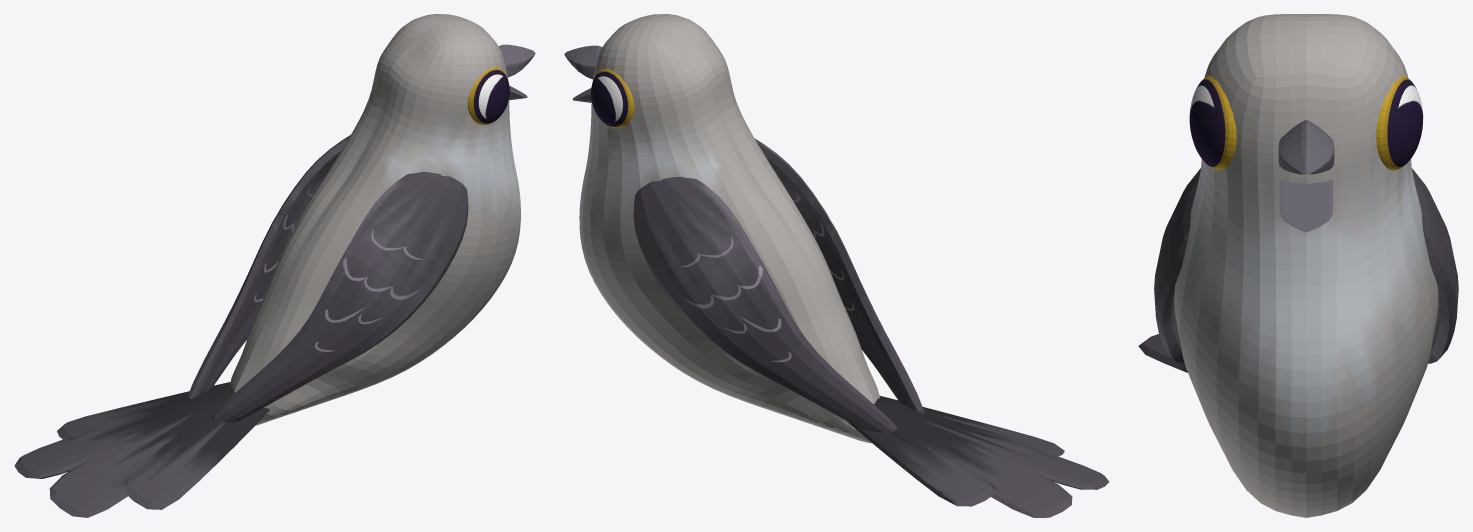
The model's file is Kakku.fbx.
3 views of the same model, side by side, from view 1: azimuth 30°, elevation 25°; view 2: azimuth 150°, elevation 25°; view 3: azimuth 270°, elevation 25° (orthographic). The views are drawn at different scales.
Parts seen in each view (by area): view 1: Plane, Plane.001, Plane.004, Cube, Plane.002; view 2: Plane, Plane.001, Plane.004, Cube, Plane.002; view 3: Plane, Plane.001, Cube, Plane.002, Plane.004.
Part boxes in pixels (x1,y1,x2,y2): Plane: [230, 14, 520, 425]; Plane.001: [187, 135, 468, 422]; Plane.004: [14, 382, 269, 517]; Cube: [467, 67, 509, 124]; Plane.002: [498, 44, 535, 100]; Plane: [579, 14, 879, 443]; Plane.001: [633, 138, 924, 432]; Plane.004: [847, 396, 1109, 517]; Cube: [591, 69, 634, 128]; Plane.002: [564, 45, 602, 102]; Plane: [1174, 14, 1438, 517]; Plane.001: [1154, 168, 1458, 363]; Cube: [1189, 76, 1423, 170]; Plane.002: [1278, 120, 1334, 232]; Plane.004: [1138, 334, 1187, 372].
Size of the model in its own units: 0.2976 by 0.211 by 0.103.
5 materials, 5 textured.
